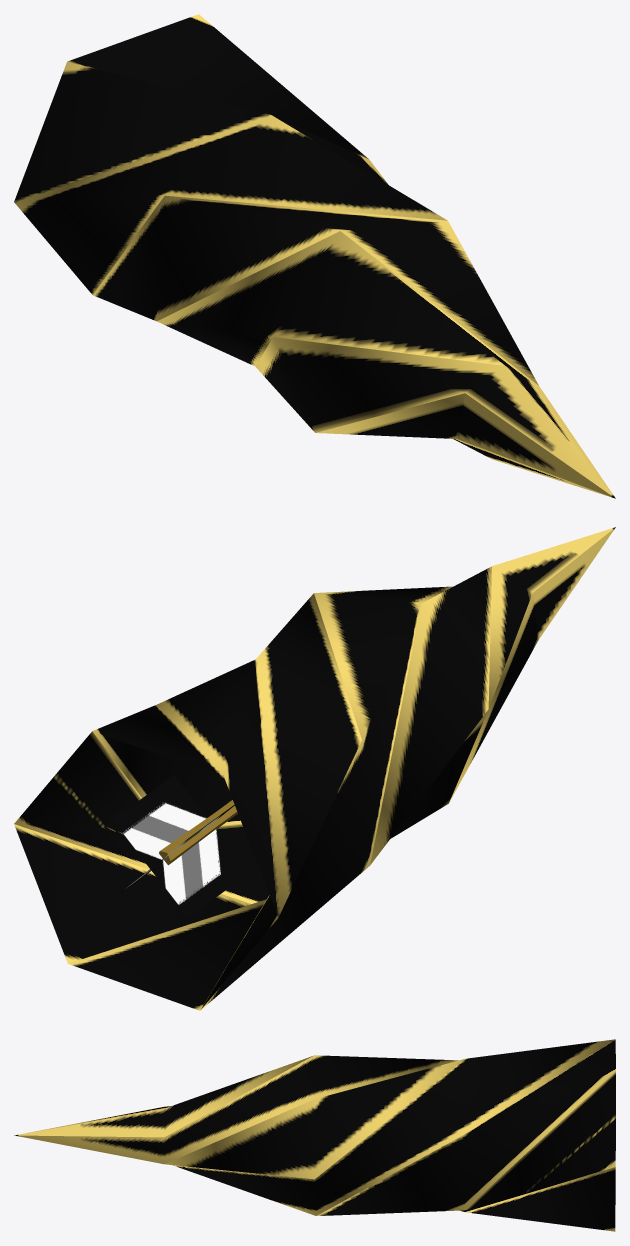
The model's file is arrow.obj.
3 views of the same model, one above another, from view 1: azimuth 30°, elevation 25°; view 2: azimuth 150°, elevation 25°; view 3: azimuth 270°, elevation 25° (orthographic). The views are drawn at different scales.
Visible parts, largest first — view 1: pCone1 group5; view 2: pCone1 group5, group5 pasted__pasted__pPlane1 pasted__group2 group3 group4, group5 group4 group2 pasted__pPlane1, group5 group4 group2 pCylinder1; view 3: pCone1 group5.
Part boxes in pixels (x1=…): pCone1 group5: x1=14, y1=14, x2=615, y2=498; pCone1 group5: x1=14, y1=527, x2=615, y2=1010; group5 pasted__pasted__pPlane1 pasted__group2 group3 group4: x1=112, y1=775, x2=249, y2=917; group5 group4 group2 pasted__pPlane1: x1=113, y1=775, x2=249, y2=916; group5 group4 group2 pCylinder1: x1=159, y1=800, x2=237, y2=865; pCone1 group5: x1=14, y1=1039, x2=615, y2=1231.
Size of the model in its own units: 1.63 by 1.5 by 5.04.
1 material, 1 textured.
